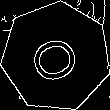O_E: (25, 28, 87, 86)
